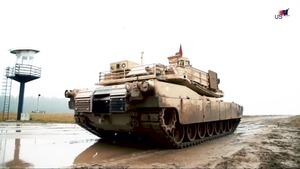abrams: (66, 65, 239, 147)
